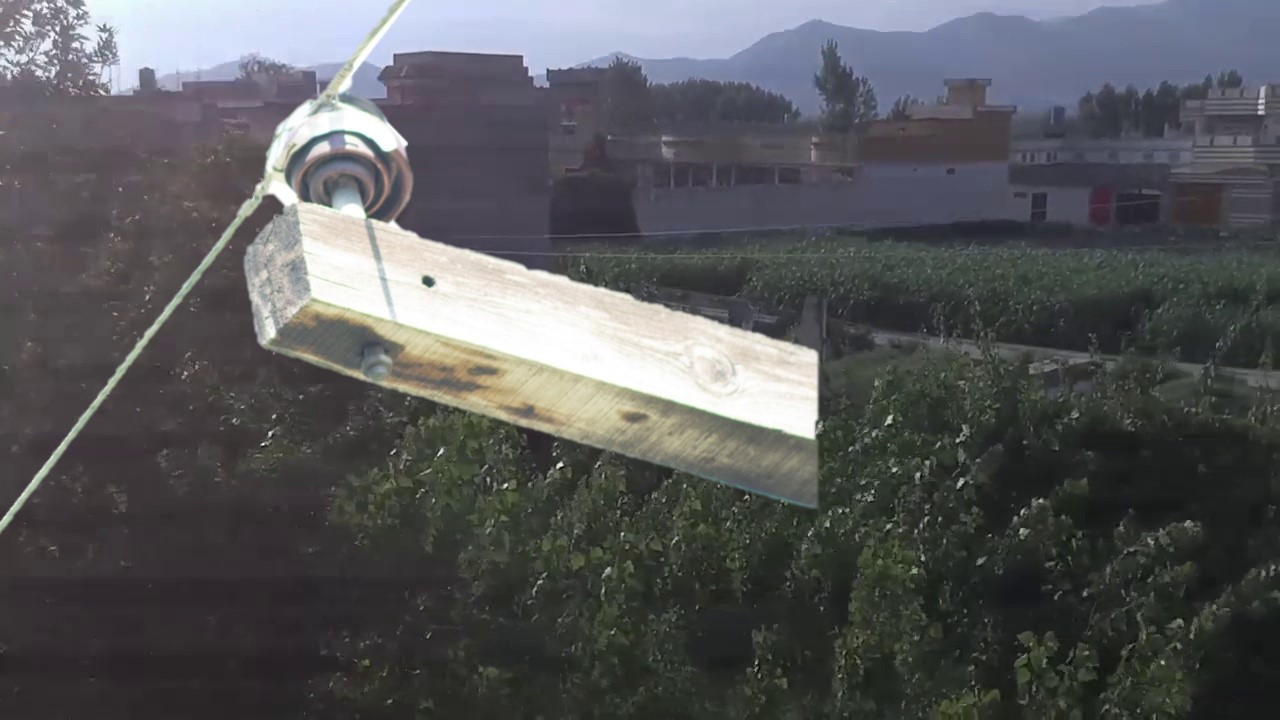defect_pin: (251, 79, 421, 223)
